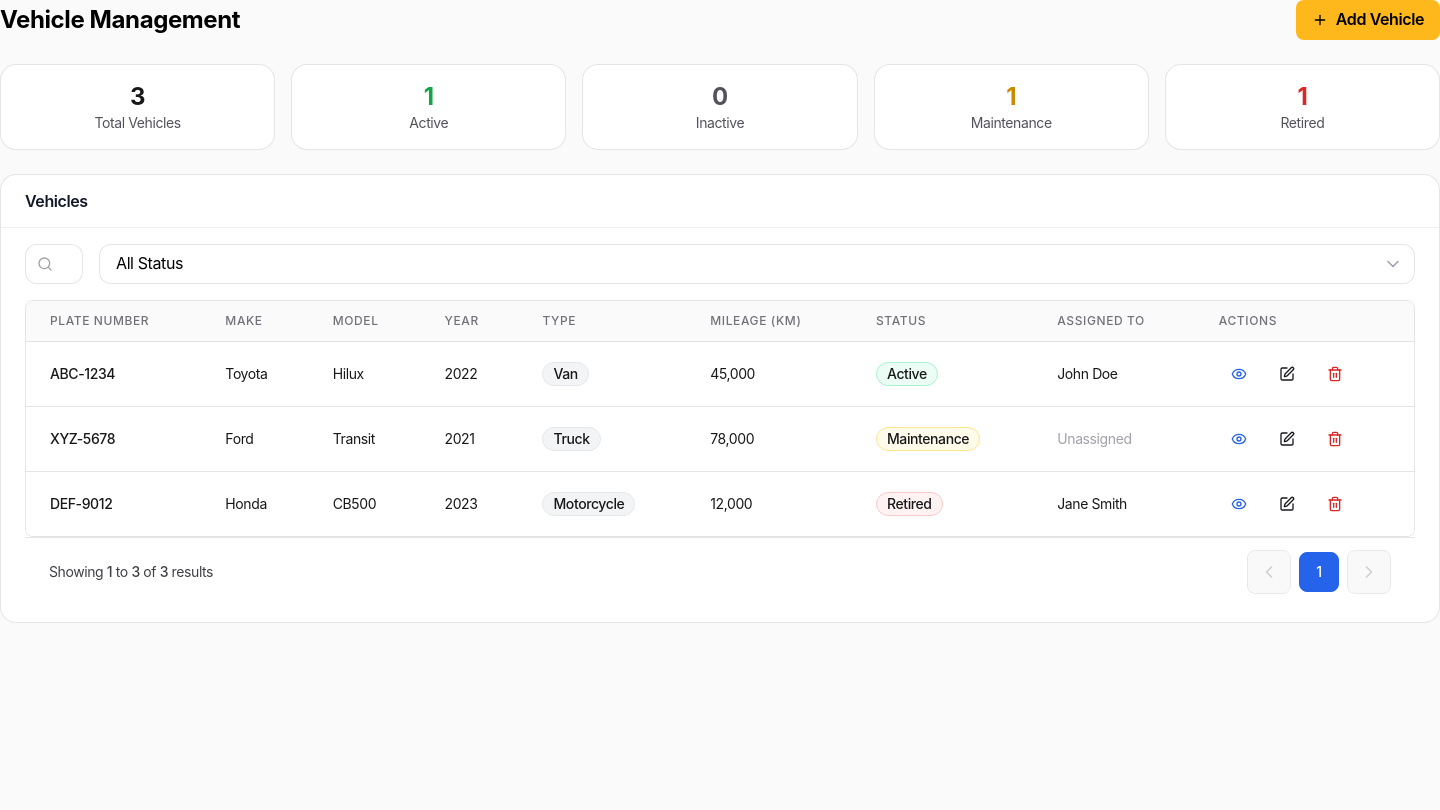
Vehicles › opens modal when Add Vehicle button is clicked
The image size is (1440, 810).
Click the button "Add Vehicle" at (1368, 20), box 1296,0 -> 1439,40
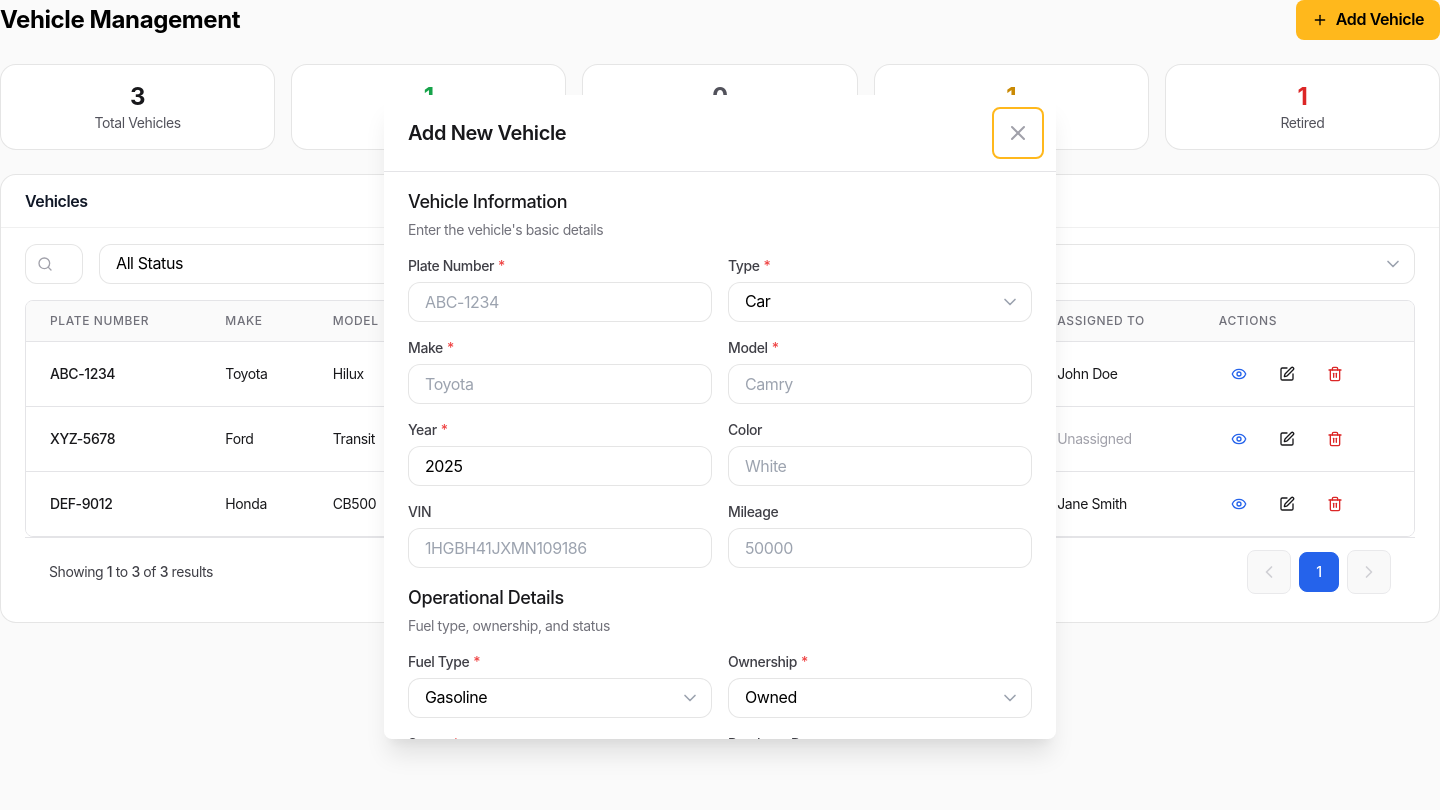
Result: the heading "Add New Vehicle" is shown at 408,119 -> 566,147
